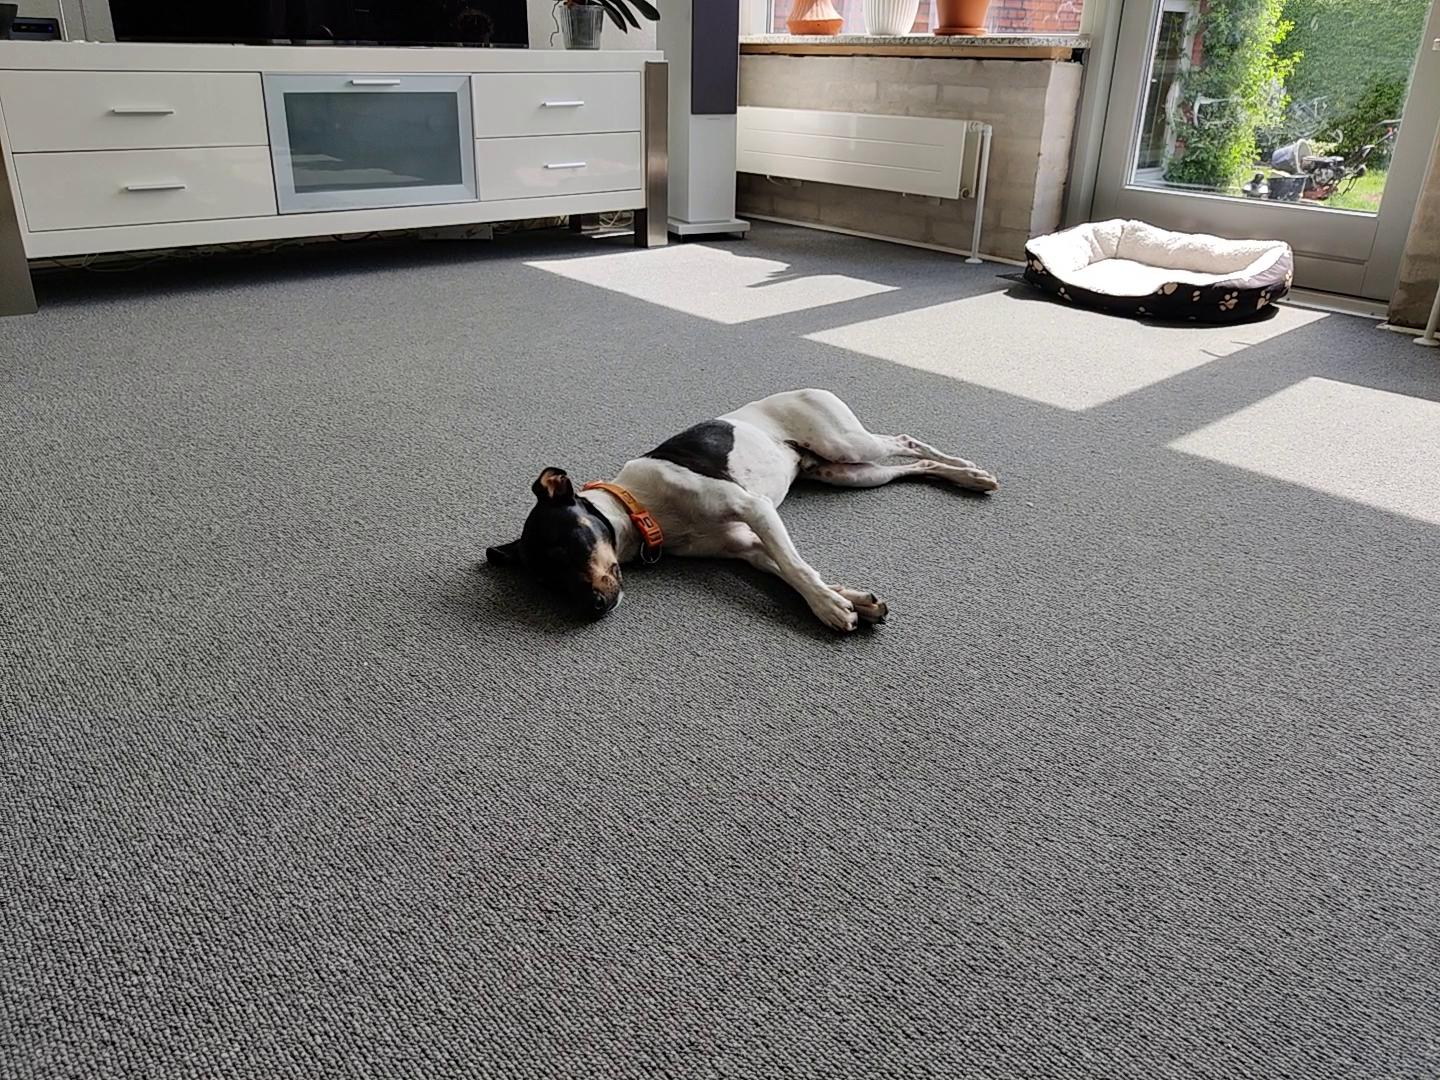Dog: (480, 385, 1000, 646)
